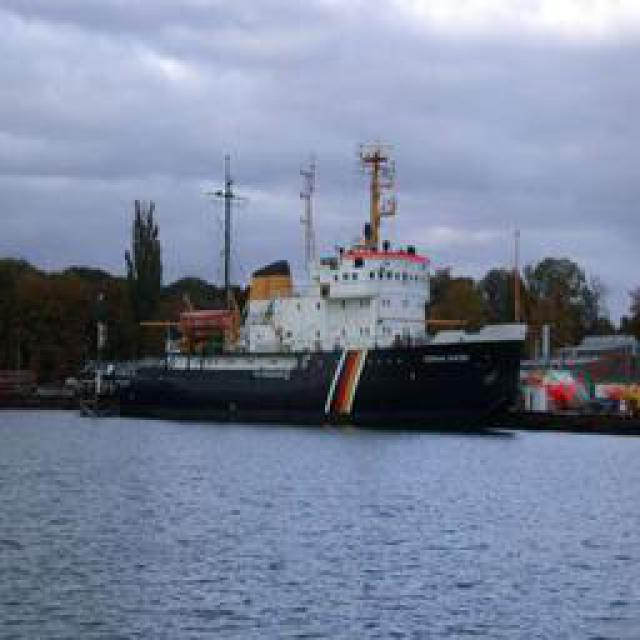Ship: (107, 133, 527, 418)
